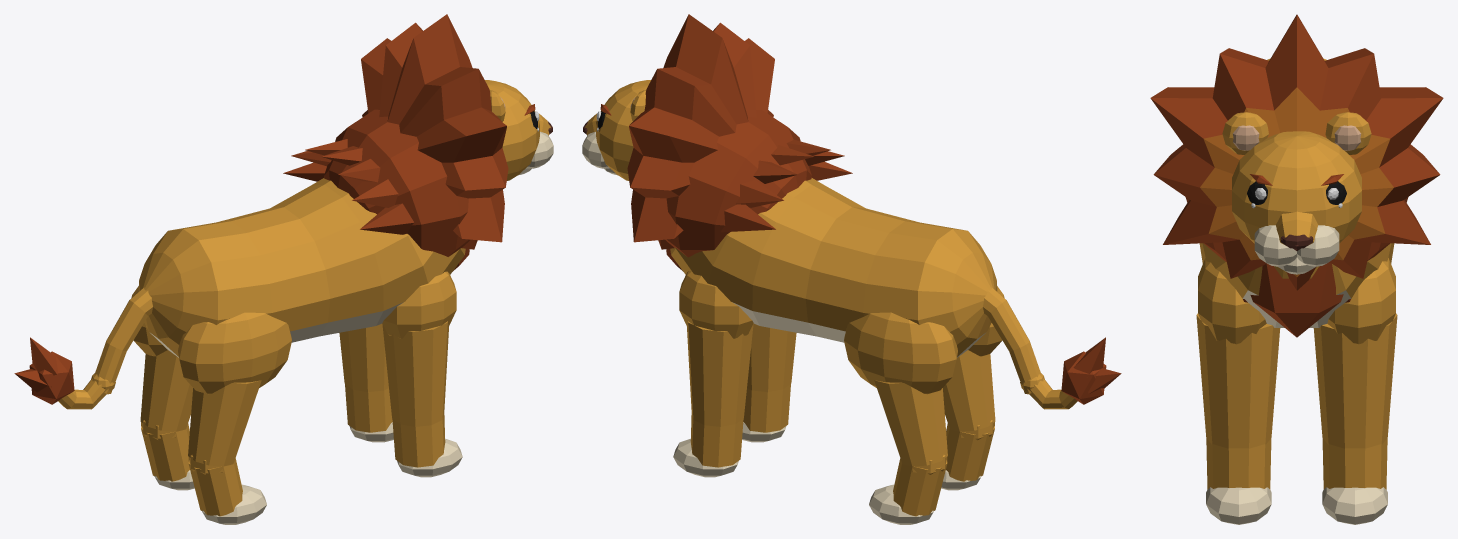
File: lion.glb
3 renders of one model, left to right at view 1: azimuth 30°, elevation 25°; view 2: azimuth 150°, elevation 25°; view 3: azimuth 270°, elevation 25°, orthographic. The views are drawn at different scales.
Visible parts, largest first — view 1: body, head, leg_br, leg_fr, leg_bl, leg_fl, tail_2, tail; view 2: body, head, leg_bl, leg_fl, leg_br, leg_fr, tail_2, tail; view 3: head, leg_fl, leg_fr, body.
Boxes of the visible parts, x1,y1,x2,y2 form: body: (138,109,470,357); head: (361,14,553,249); leg_br: (178,312,291,524); leg_fr: (382,271,462,477); leg_bl: (131,286,194,490); leg_fl: (339,323,393,442); tail_2: (14,337,115,409); tail: (94,287,152,394); body: (665,109,997,357); head: (582,14,774,249); leg_bl: (844,312,957,524); leg_fl: (673,270,753,477); leg_br: (941,286,1004,490); leg_fr: (742,323,796,442); tail_2: (1020,337,1121,409); tail: (983,287,1041,394); head: (1150,14,1443,290); leg_fl: (1313,258,1397,524); leg_fr: (1196,258,1280,524); body: (1185,58,1408,337).
Size of the model in its own units: 2.41 by 1.85 by 0.9338.
